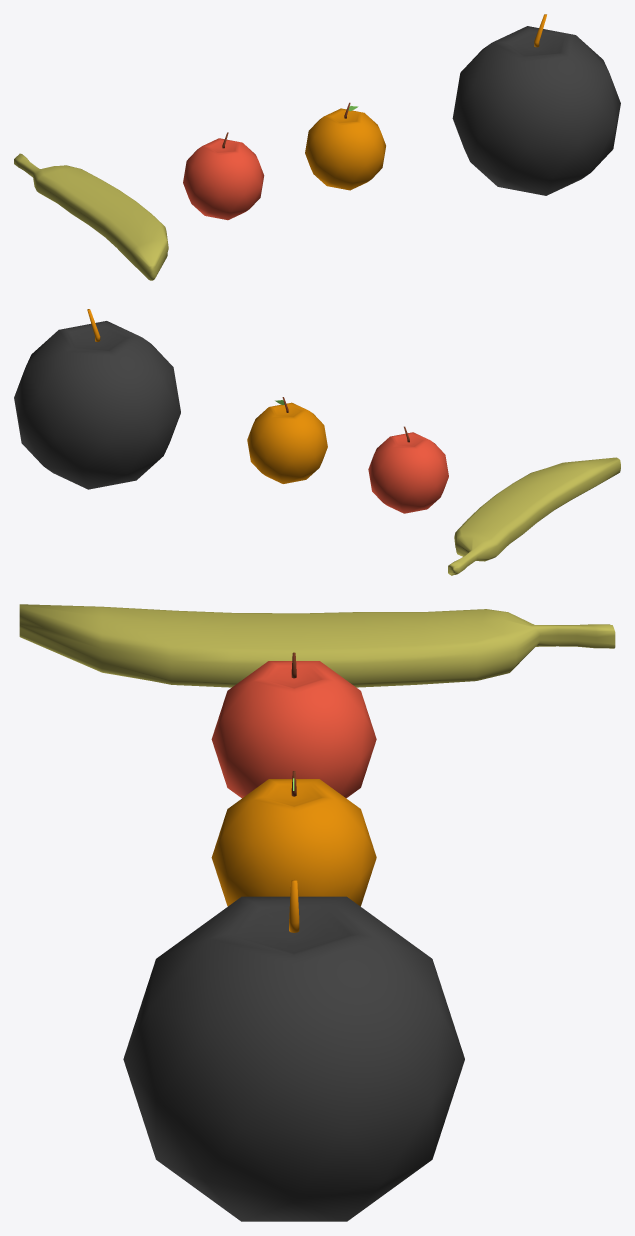
The model's file is Fruits.fbx.
The picture shows the model from 3 angles, top to bottom: view 1: azimuth 30°, elevation 25°; view 2: azimuth 150°, elevation 25°; view 3: azimuth 270°, elevation 25°; orthographic projection. The views are drawn at different scales.
Visible parts, largest first — view 1: Cylinder.002, Plane, Cylinder.001, Cylinder; view 2: Cylinder.002, Plane, Cylinder.001, Cylinder; view 3: Cylinder.002, Plane, Cylinder, Cylinder.001.
Part boxes in pixels (<box>): Cylinder.002: <box>452,14,620,195</box>; Plane: <box>14,153,168,280</box>; Cylinder.001: <box>305,102,385,190</box>; Cylinder: <box>183,132,264,220</box>; Cylinder.002: <box>14,309,180,489</box>; Plane: <box>448,457,620,575</box>; Cylinder.001: <box>247,397,327,483</box>; Cylinder: <box>368,426,448,513</box>; Cylinder.002: <box>123,879,464,1221</box>; Plane: <box>19,604,615,687</box>; Cylinder: <box>211,652,376,798</box>; Cylinder.001: <box>211,771,376,906</box>.
Size of the model in its own units: 500 by 155 by 246.
